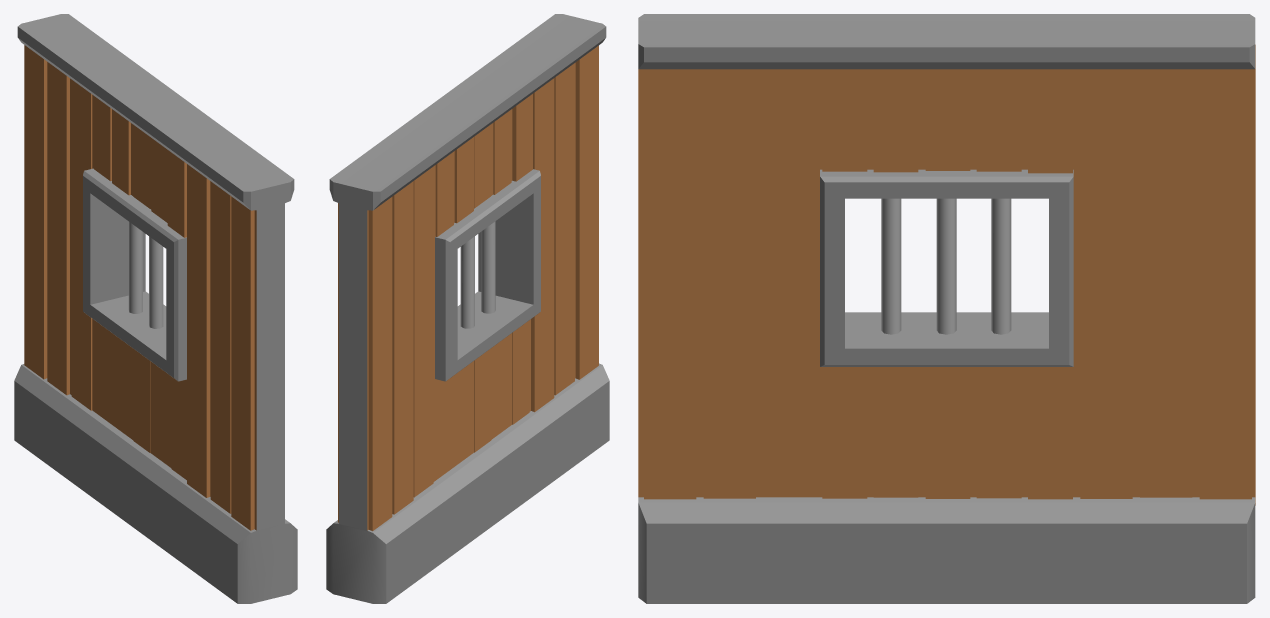
Rendered from mur5.FBX.
The picture shows the model from 3 angles, left to right: view 1: azimuth 30°, elevation 25°; view 2: azimuth 150°, elevation 25°; view 3: azimuth 270°, elevation 25°; orthographic projection. The views are drawn at different scales.
Parts seen in each view (by area): view 1: Mur008; view 2: Mur008; view 3: Mur008.
Part boxes in pixels (bbox=[...]): Mur008: bbox=[14, 14, 297, 603]; Mur008: bbox=[326, 14, 609, 603]; Mur008: bbox=[638, 14, 1255, 603].
Size of the model in its own units: 15.08 by 99.03 by 100.
Materials: 1 (1 with a texture image).
